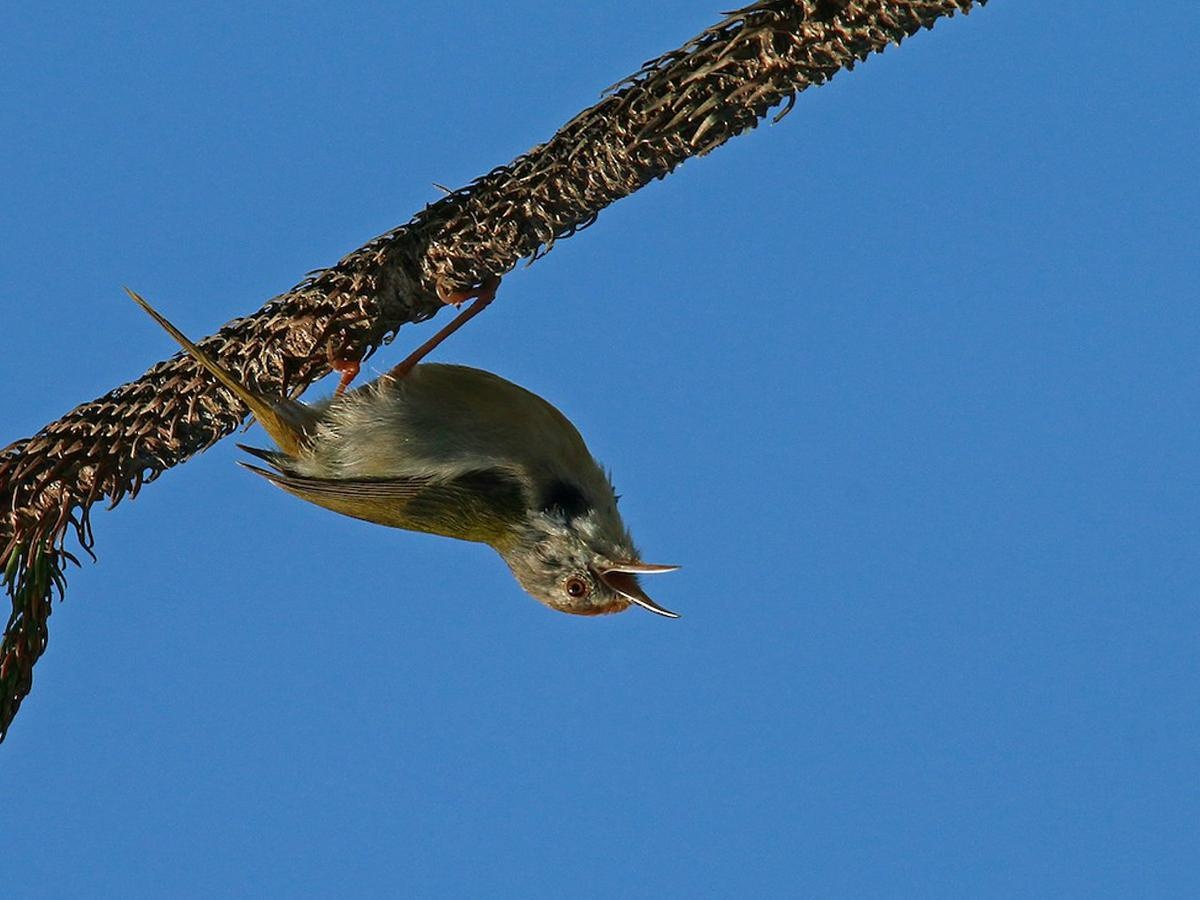tailorbird: (181, 212, 757, 675)
